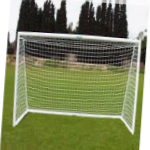goals: (13, 30, 141, 137)
